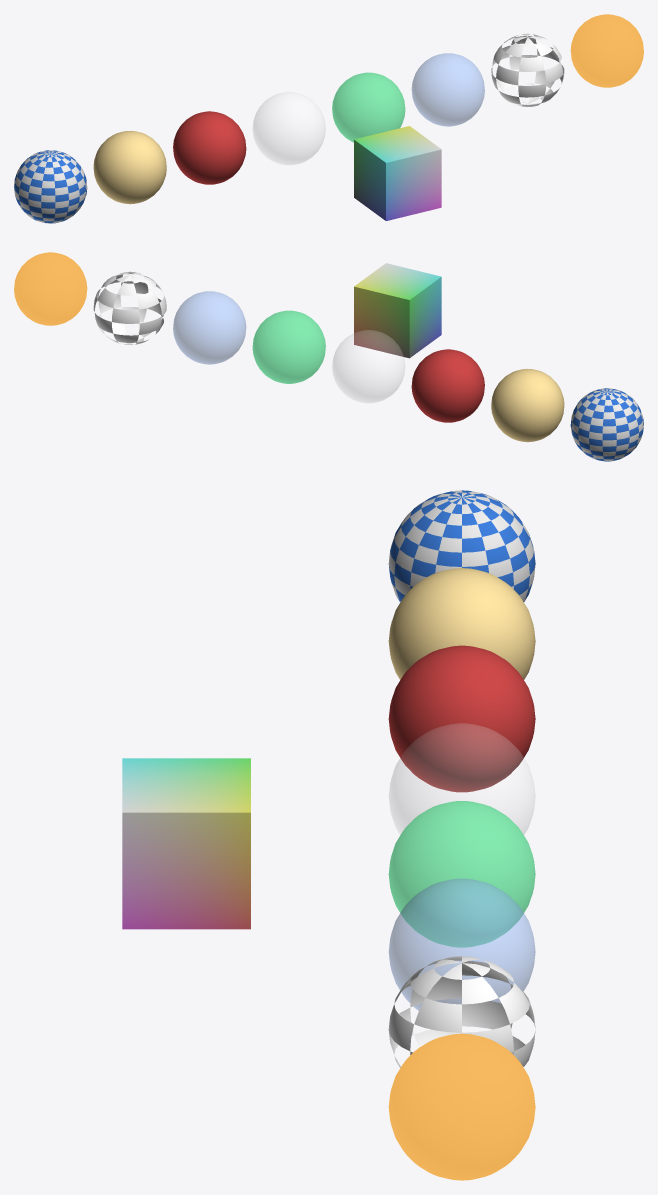
The model's file is materials.glb.
The picture shows the model from 3 angles, top to bottom: view 1: azimuth 30°, elevation 25°; view 2: azimuth 150°, elevation 25°; view 3: azimuth 270°, elevation 25°; orthographic projection. The views are drawn at different scales.
Visible parts, largest first — view 1: Vertex Colors, Car Paint, Checker, Glow, Gold, Translucent, Glass, Unlit, Cutout; view 2: Vertex Colors, Car Paint, Checker, Glow, Unlit, Gold, Translucent, Glass, Cutout; view 3: Vertex Colors, Glow, Car Paint, Unlit, Translucent, Checker, Gold, Glass, Cutout.
Boxes of the visible parts, x1,y1,x2,y2 form: Vertex Colors: (354, 126, 441, 220); Car Paint: (173, 111, 246, 184); Checker: (14, 150, 87, 223); Glow: (570, 14, 643, 87); Gold: (93, 131, 166, 204); Translucent: (411, 53, 484, 126); Glass: (253, 92, 325, 164); Unlit: (332, 72, 405, 142); Cutout: (491, 33, 564, 106); Vertex Colors: (354, 263, 441, 358); Car Paint: (411, 349, 484, 422); Checker: (570, 388, 643, 461); Glow: (14, 252, 87, 325); Unlit: (252, 310, 325, 383); Gold: (491, 369, 564, 442); Translucent: (173, 291, 246, 364); Glass: (332, 330, 404, 402); Cutout: (93, 271, 166, 344); Vertex Colors: (122, 758, 250, 929); Glow: (388, 1033, 535, 1180); Car Paint: (388, 645, 535, 792); Unlit: (388, 801, 535, 947); Translucent: (388, 878, 535, 1010); Checker: (388, 490, 535, 602); Gold: (388, 568, 535, 679); Glass: (389, 723, 535, 834); Cutout: (388, 956, 535, 1067).
Bounding box in the file's own units: 7.8 × 0.8 × 2.25.
Materials: 9 (2 with a texture image).
